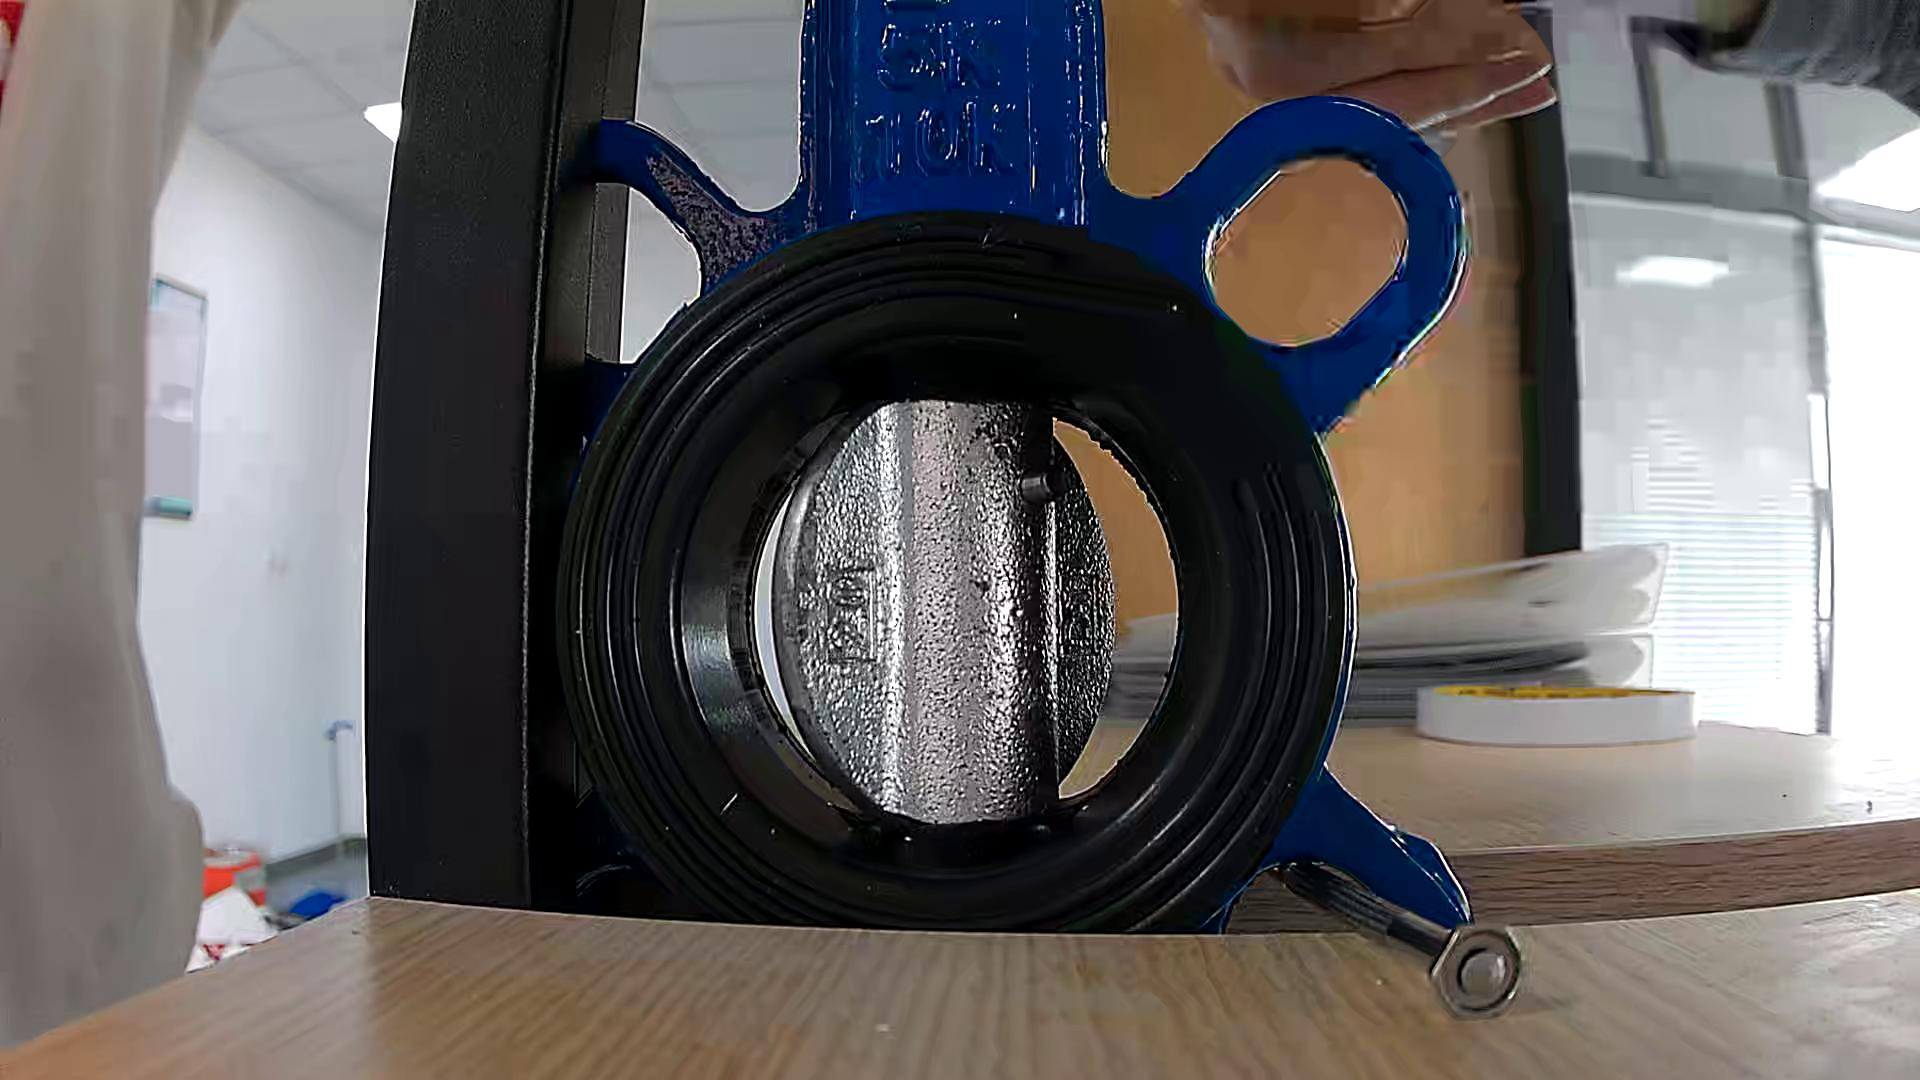valve: (772, 401, 1117, 825)
